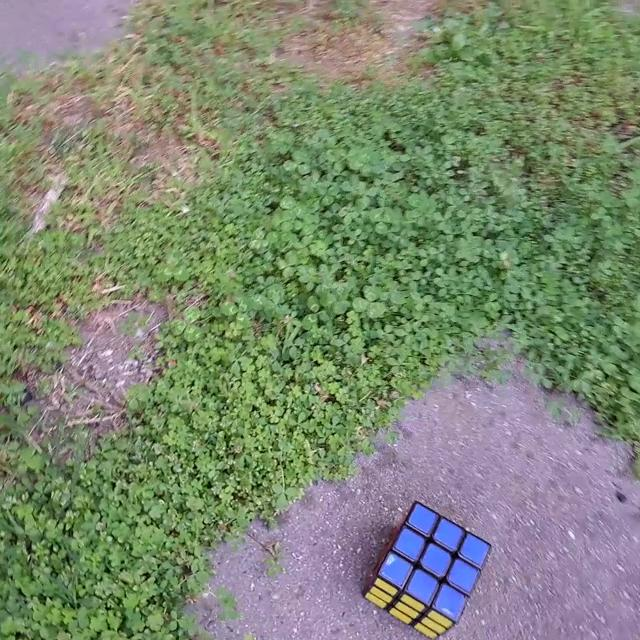rubix_cube: (360, 499, 494, 640)
